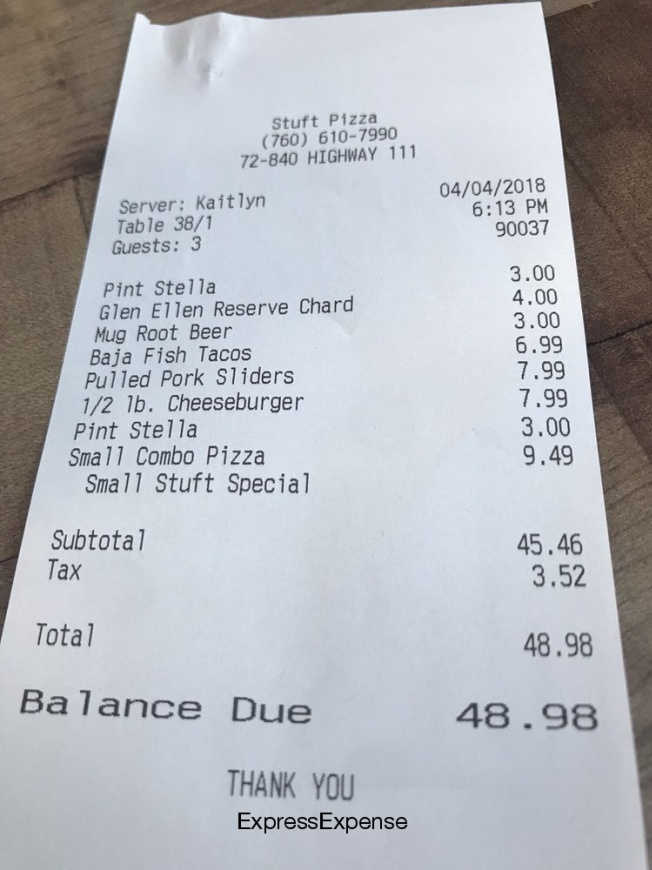Additional details: (213, 757, 372, 805)
Receipt: (9, 1, 645, 811)
Shop details: (21, 165, 629, 740), (229, 110, 434, 168)
